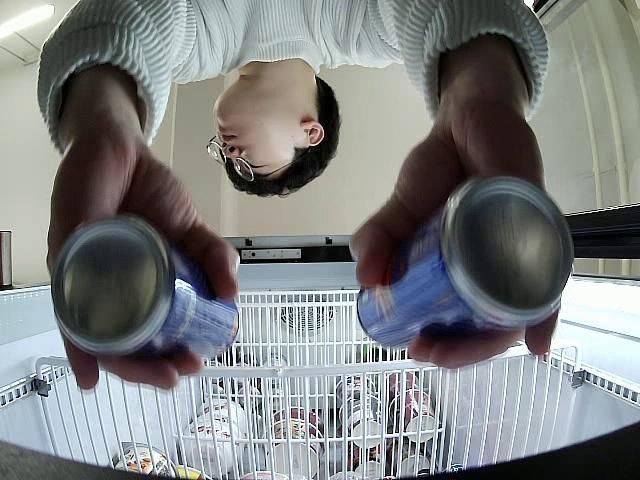16_hot6: (358, 174, 574, 347), (49, 216, 240, 357)
